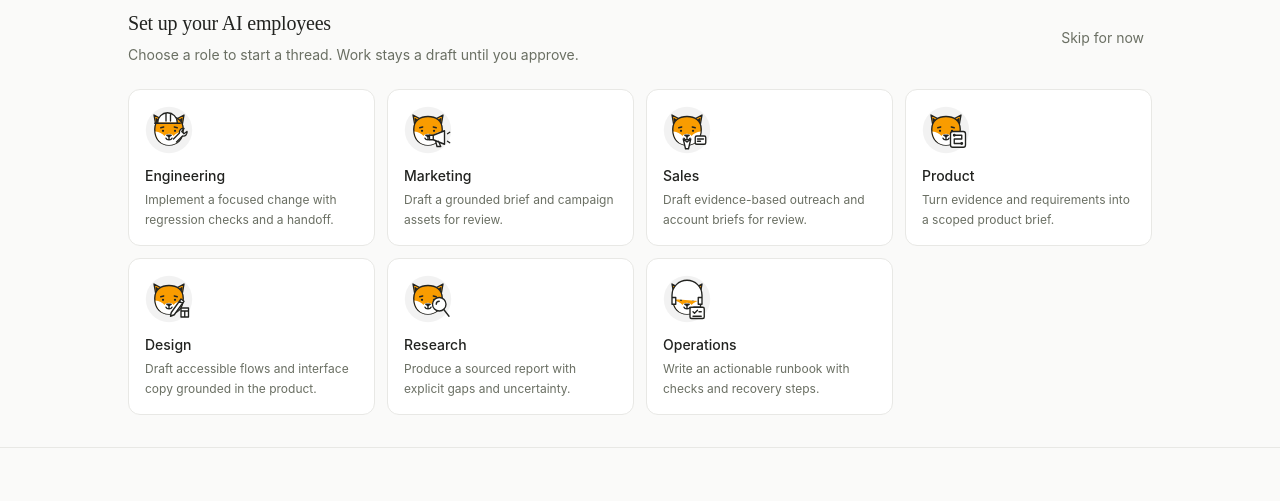
Test: employee onboarding › keeps the choice available and reports creation failures
Click the button "Sales" at (770, 168), box [646,89,893,246]
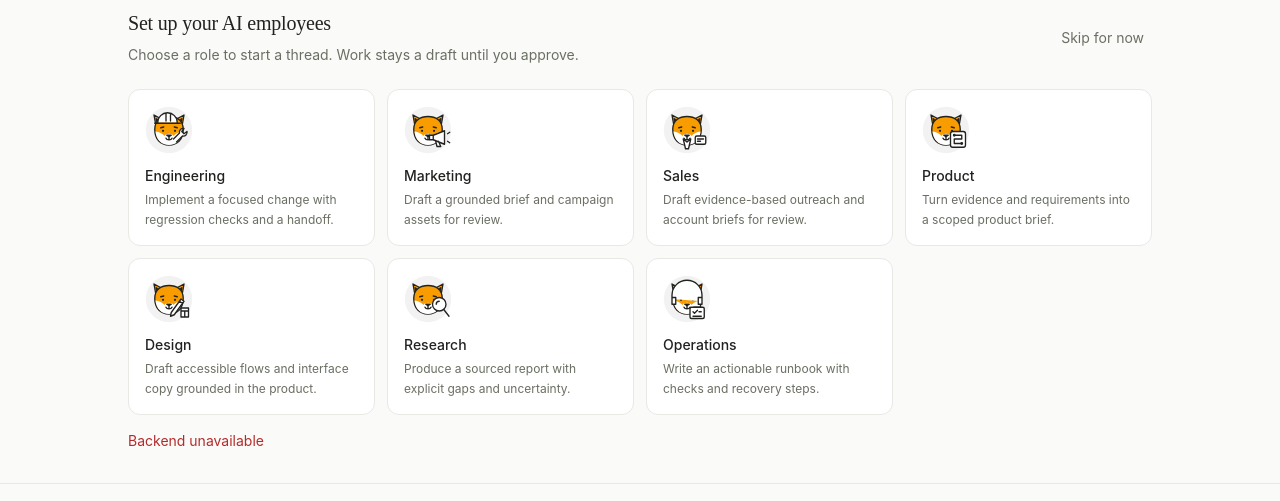
Check: the message reads "Backend unavailable", box [128,432,264,449]
